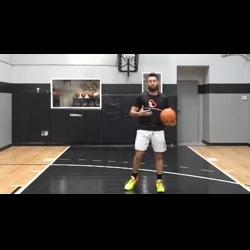BasketBall: (158, 106, 177, 126)
Player: (122, 71, 178, 194)
